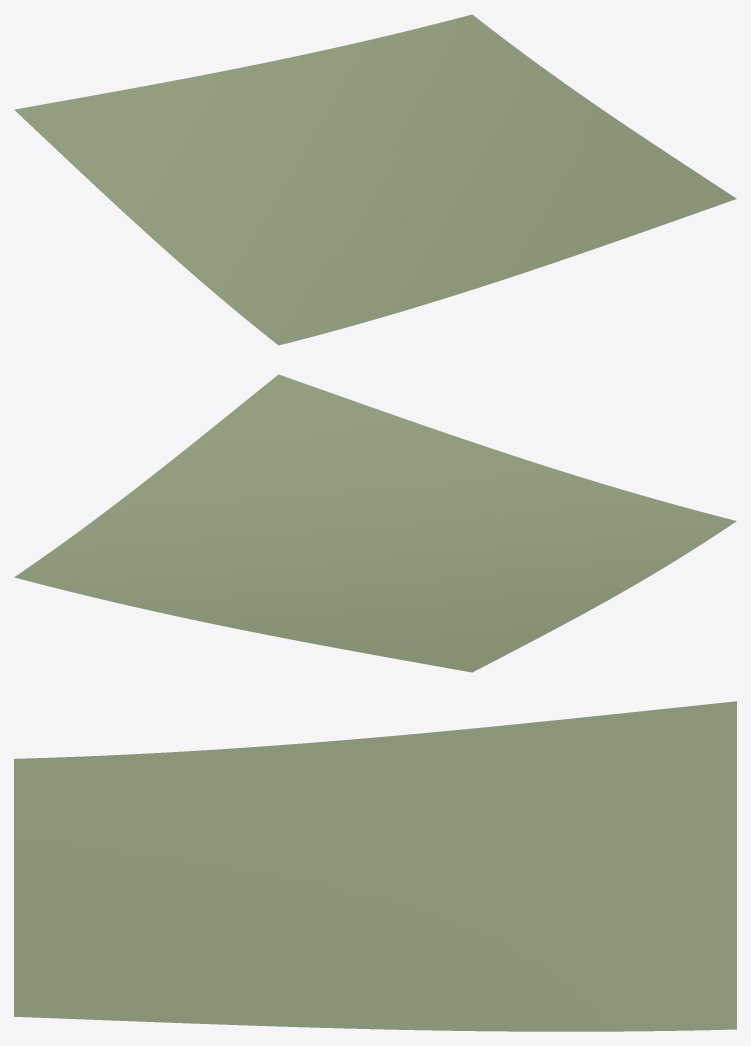
File: alpine-2-13.glb
The picture shows the model from 3 angles, top to bottom: view 1: azimuth 30°, elevation 25°; view 2: azimuth 150°, elevation 25°; view 3: azimuth 270°, elevation 25°; orthographic projection. The views are drawn at different scales.
Parts seen in each view (by area): view 1: alpine-2-13; view 2: alpine-2-13; view 3: alpine-2-13.
Part boxes in pixels (x1,y1,x2,y2): alpine-2-13: [14, 14, 736, 345]; alpine-2-13: [14, 374, 736, 672]; alpine-2-13: [14, 701, 736, 1031].
Bounding box in the file's own units: 256 × 22.5 × 256.
